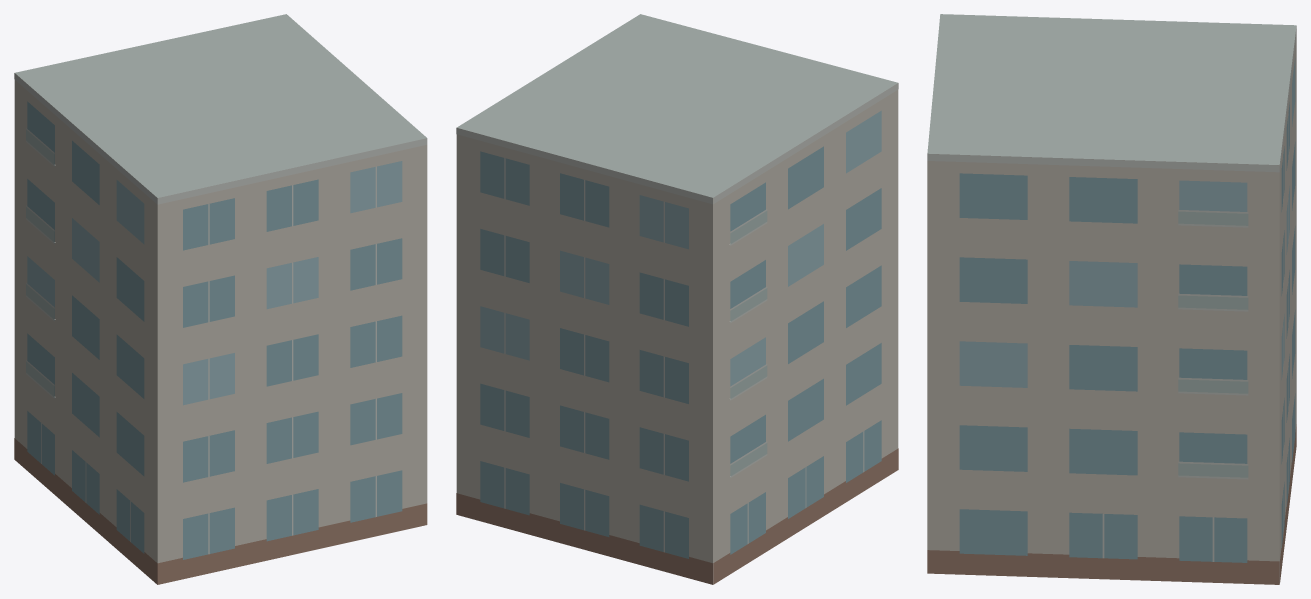
The model's file is survey-upis-32671504.glb.
The picture shows the model from 3 angles, left to right: view 1: azimuth 30°, elevation 25°; view 2: azimuth 150°, elevation 25°; view 3: azimuth 270°, elevation 25°; orthographic projection. The views are drawn at different scales.
Visible parts, largest first — view 1: survey-upis-32671504.tmp; view 2: survey-upis-32671504.tmp; view 3: survey-upis-32671504.tmp.
Boxes of the visible parts, left/top/right/bottom form: survey-upis-32671504.tmp: left=14, top=14, right=427, bottom=584; survey-upis-32671504.tmp: left=456, top=14, right=898, bottom=584; survey-upis-32671504.tmp: left=927, top=14, right=1296, bottom=584.
Bounding box in the file's own units: 11.05 × 14.3 × 11.41.
